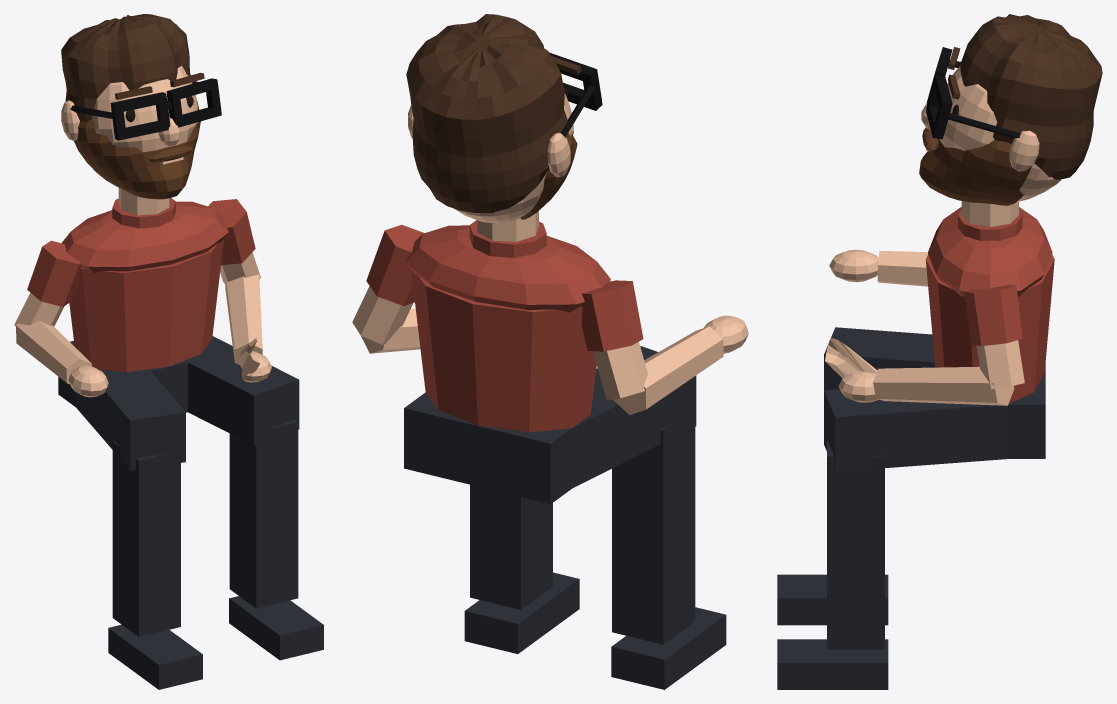
Rendered from avatar.glb.
3 views of the same model, side by side, from view 1: azimuth 30°, elevation 25°; view 2: azimuth 150°, elevation 25°; view 3: azimuth 270°, elevation 25° (orthographic). The views are drawn at different scales.
Parts seen in each view (by area): view 1: avatar.avatar-trousers, avatar.avatar-shirt, avatar.avatar-hair, avatar.avatar-skin, avatar.avatar-beard, avatar.arm.avatar-skin, avatar.avatar-glasses, avatar.arm.avatar-shirt; view 2: avatar.avatar-trousers, avatar.avatar-shirt, avatar.avatar-hair, avatar.arm.avatar-skin, avatar.avatar-skin, avatar.arm.avatar-shirt, avatar.avatar-glasses, avatar.avatar-beard; view 3: avatar.avatar-trousers, avatar.avatar-shirt, avatar.avatar-hair, avatar.avatar-skin, avatar.avatar-beard, avatar.arm.avatar-skin, avatar.avatar-glasses.
Boxes of the visible parts, x1,y1,x2,y2 form: avatar.avatar-trousers: (58, 336, 323, 689); avatar.avatar-shirt: (62, 198, 255, 372); avatar.avatar-hair: (61, 14, 204, 121); avatar.avatar-skin: (61, 66, 271, 382); avatar.avatar-beard: (74, 101, 200, 199); avatar.arm.avatar-skin: (14, 293, 108, 397); avatar.avatar-glasses: (70, 78, 221, 140); avatar.arm.avatar-shirt: (27, 240, 81, 306); avatar.avatar-trousers: (404, 346, 726, 689); avatar.avatar-shirt: (366, 220, 610, 432); avatar.avatar-hair: (406, 14, 581, 212); avatar.arm.avatar-skin: (593, 315, 748, 414); avatar.avatar-skin: (352, 93, 573, 353); avatar.arm.avatar-shirt: (581, 280, 643, 351); avatar.avatar-glasses: (549, 52, 602, 137); avatar.avatar-beard: (520, 133, 577, 219); avatar.avatar-trousers: (777, 327, 1045, 689); avatar.avatar-shirt: (925, 207, 1054, 403); avatar.avatar-hair: (948, 14, 1102, 179); avatar.avatar-skin: (825, 65, 1061, 405); avatar.avatar-beard: (919, 128, 1032, 205); avatar.arm.avatar-skin: (829, 249, 927, 286); avatar.avatar-glasses: (926, 47, 1020, 139).
Size of the model in its own units: 0.6869 by 1.49 by 0.7029.
